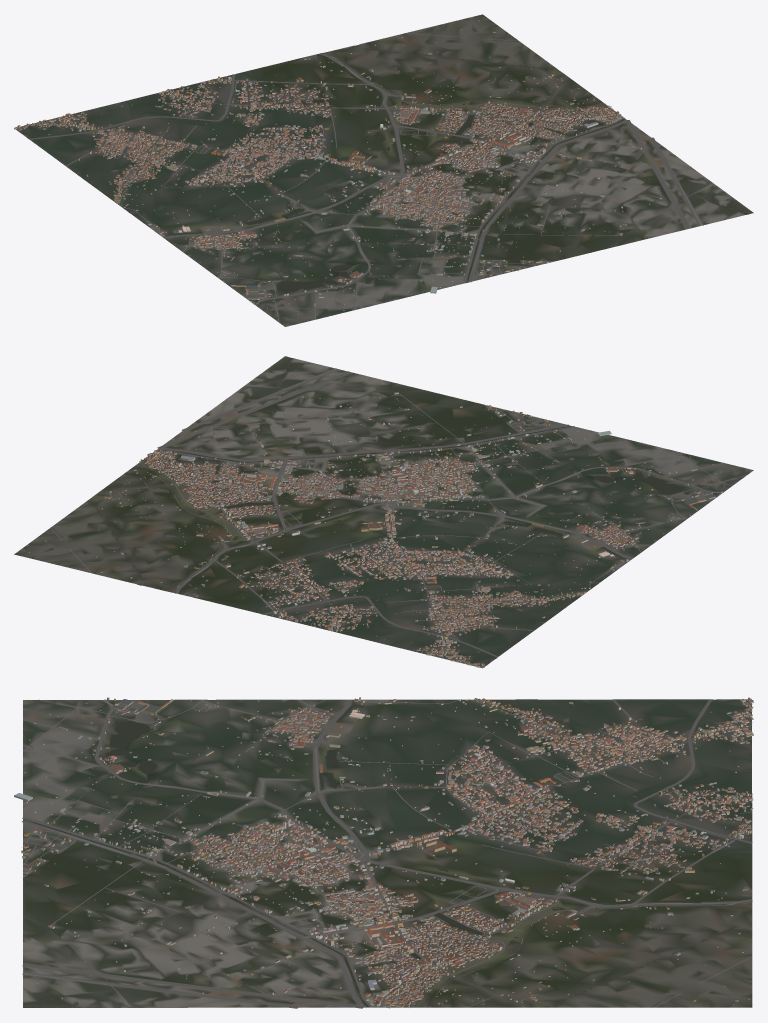
3 views of the same model, one above another, from view 1: azimuth 30°, elevation 25°; view 2: azimuth 150°, elevation 25°; view 3: azimuth 270°, elevation 25° (orthographic). The views are drawn at different scales.
Parts seen in each view (by area): view 1: ground, buildings, roads, water; view 2: ground, buildings, roads, water; view 3: ground, buildings, roads, water.
Boxes of the visible parts, x1,y1,x2,y2 form: ground: (15, 14, 753, 326); buildings: (14, 17, 725, 314); roads: (16, 33, 707, 325); water: (195, 48, 747, 292); ground: (14, 356, 753, 668); buildings: (24, 368, 724, 667); roads: (50, 368, 751, 666); water: (90, 357, 683, 594); ground: (23, 699, 752, 1007); buildings: (14, 697, 753, 1008); roads: (22, 699, 752, 1008); water: (23, 721, 747, 1007).
Size of the model in its own units: 2815 by 32.47 by 2845.
